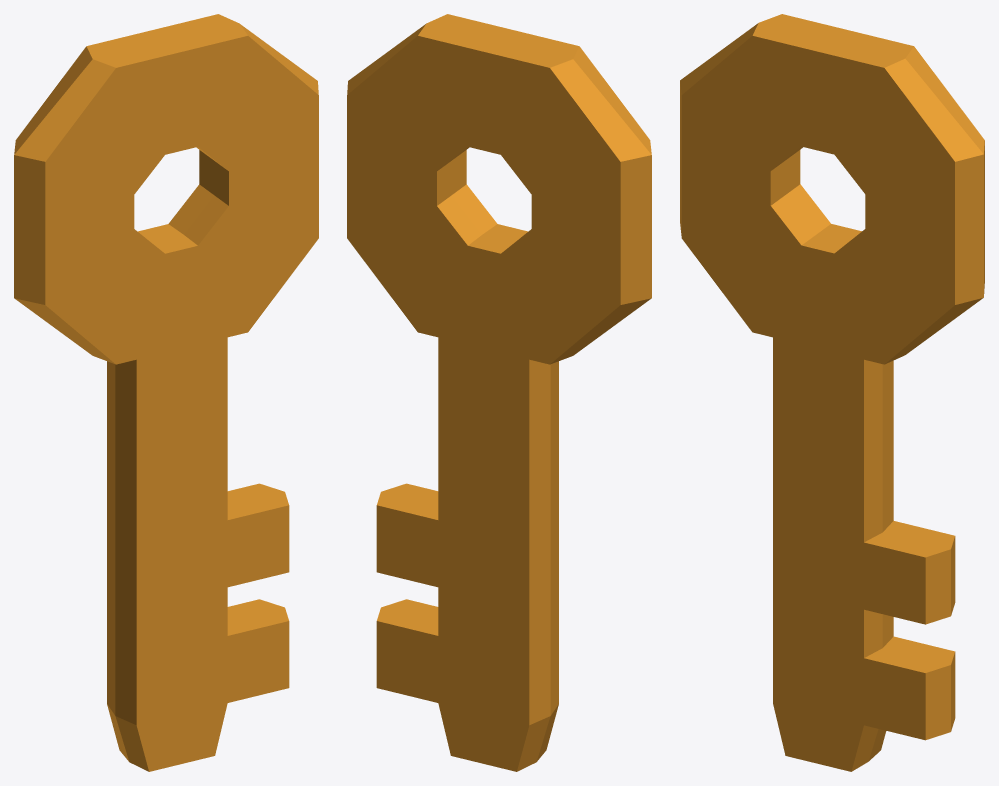
The model's file is Key.fbx.
3 renders of one model, left to right at view 1: azimuth 30°, elevation 25°; view 2: azimuth 150°, elevation 25°; view 3: azimuth 330°, elevation 25°, orthographic.
Visible parts, largest first — view 1: Key; view 2: Key; view 3: Key.
Part boxes in pixels (box(x1,y1,x2,y2)): Key: box(14, 14, 318, 771); Key: box(347, 14, 651, 771); Key: box(680, 14, 984, 771).
Size of the model in its own units: 0.133 by 0.2979 by 0.0225.
